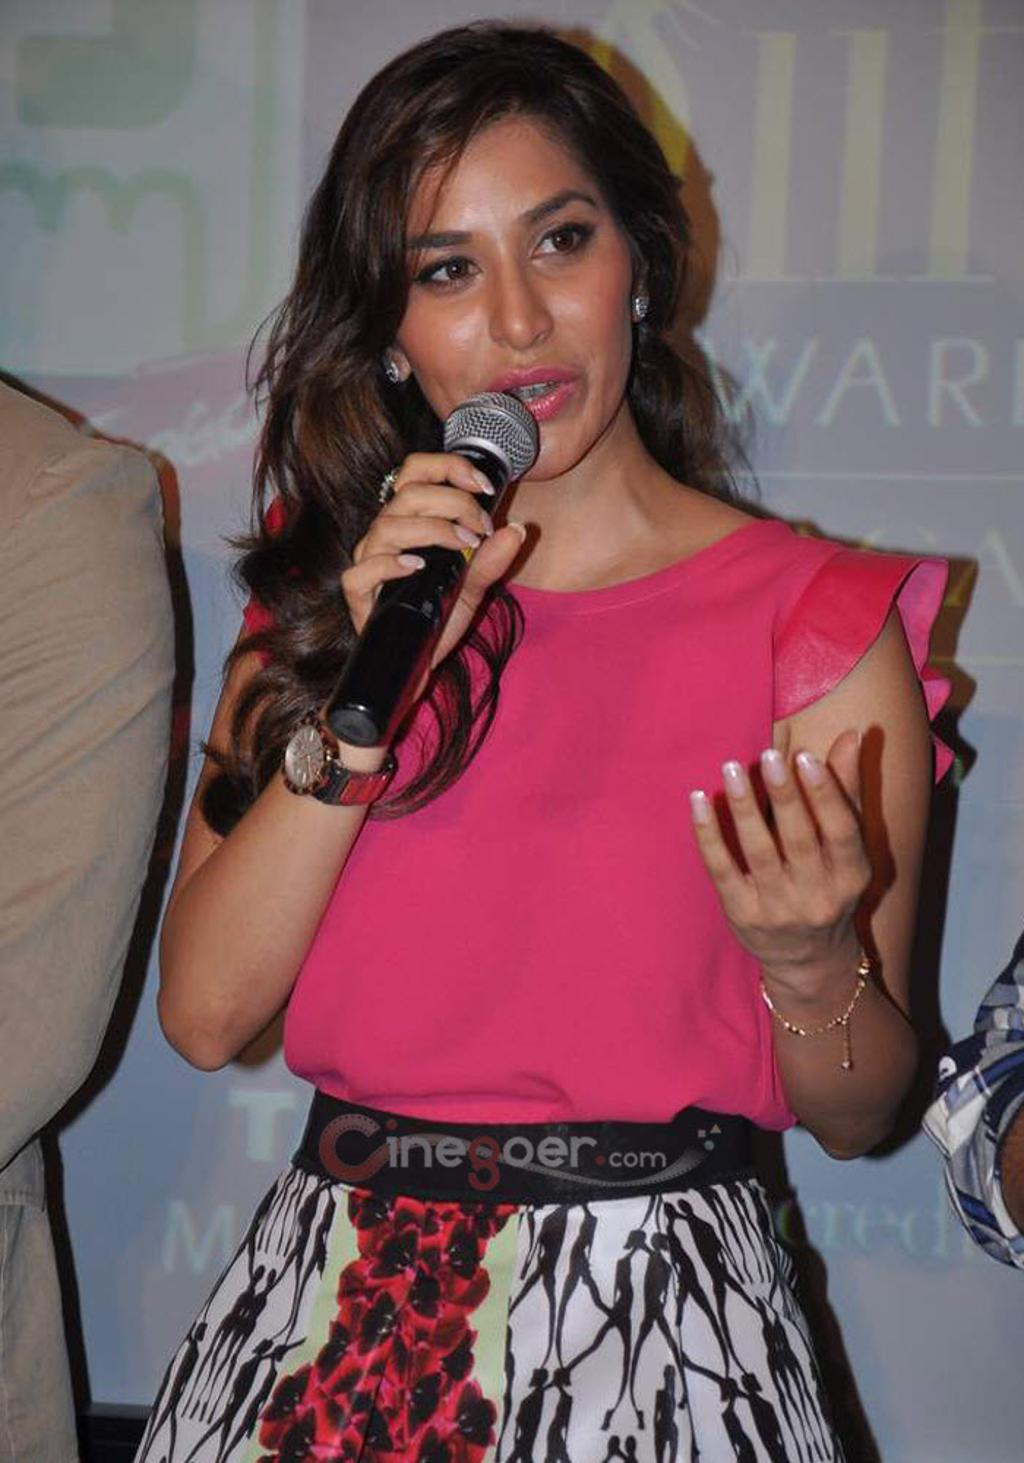face: (389, 120, 632, 475)
